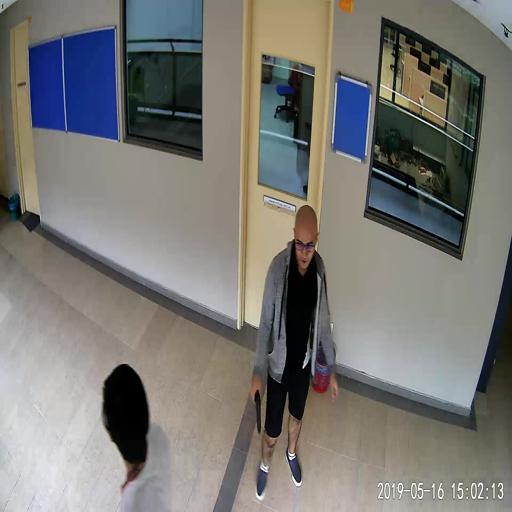pistol: (251, 385, 261, 432)
